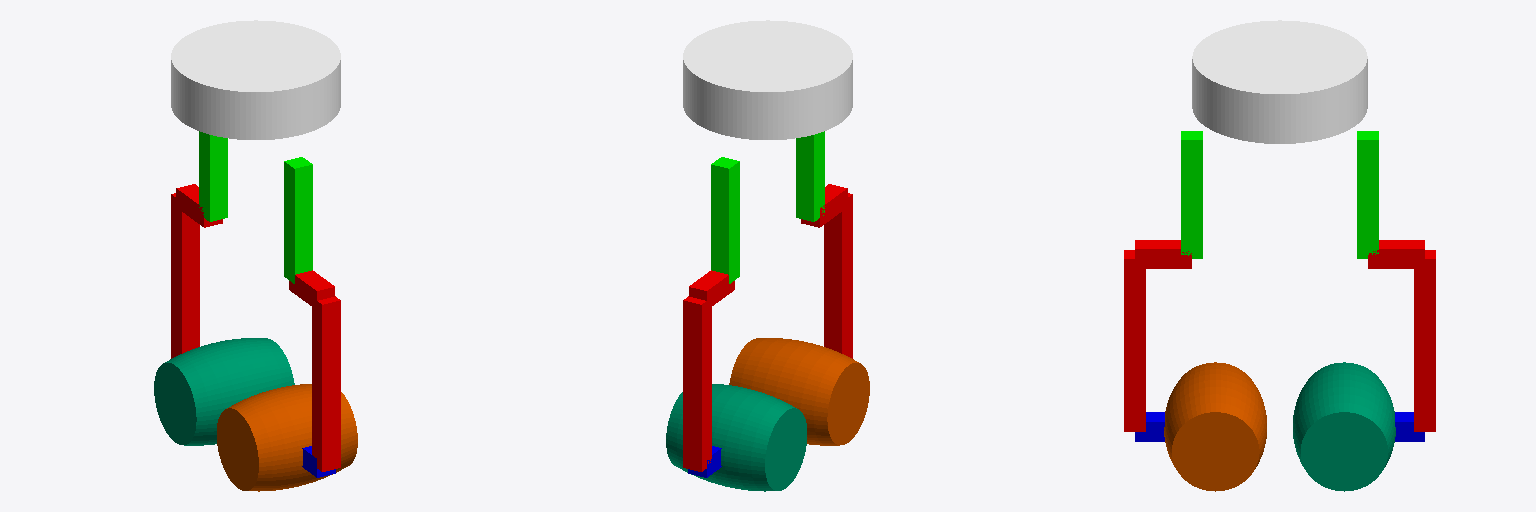
robot.urdf — roller:
<?xml version="1.0"?>
<robot name="roller">
  <link name="base">
    <inertial>
      <origin rpy="0 0 0" xyz="0 0 0" />
      <mass value="0" />
      <inertia ixx="0" ixy="0" ixz="0" iyy="0" iyz="0" izz="0" />
    </inertial>
  </link>
  <link name="roller_baselink">
    <inertial>
      <origin rpy="0 0 0" xyz="0 0 0" />
      <mass value="0" />
      <inertia ixx="0" ixy="0" ixz="0" iyy="0" iyz="0" izz="0" />
    </inertial>
    <visual>
      <origin rpy="0 0 0" xyz="0 0 0" />
      <geometry>
        <mesh filename="cylinder.obj" scale="0.08 0.08 0.05" />
        <!-- <cylinder radius="0.08" length="0.05325" /> -->
      </geometry>
      <material name="white">
        <color rgba="1 1 1 1" />
      </material>
    </visual>
    <collision>
      <origin rpy="0 0 0" xyz="0 0 0" />
      <geometry>
        <mesh filename="cylinder.obj" scale="0.08 0.08 0.05" />
        <!-- <cylinder radius="0.0375" length="0.05325" /> -->
      </geometry>
    </collision>
  </link>


  <link name="link1_left">
    <inertial>
      <origin rpy="0 0 0" xyz="0 0 0.03" />
      <mass value="0.5" />
      <inertia ixx="0.0001" ixy="0" ixz="0" iyy="0.0001" iyz="0" izz="0.0001" />
    </inertial>

    <visual>
      <origin rpy="0 0 0" xyz="0 0 0.03" />
      <geometry>
        <mesh filename="cube.obj" scale="0.01 0.01 0.06" />
        <!-- <box size="0.01 0.01 0.06" /> -->
      </geometry>
      <material name="green">
        <color rgba="0 1 0 1" />
      </material>
    </visual>
    
    <collision>
      <origin rpy="0 0 0" xyz="0 0 0.03" />
      <geometry>
        <mesh filename="cube.obj" scale="0.01 0.01 0.06" />
        <!-- <box size="0.01 0.01 0.06" /> -->
      </geometry>
    </collision>
  </link>

  <link name="link2_left">
    <inertial>
      <origin rpy="0 0 0" xyz="0 -0.0191446 0.03748" />
      <mass value="0.5" />
      <inertia ixx="0.0001" ixy="0" ixz="0" iyy="0.0001" iyz="0" izz="0.0001" />
    </inertial>

    <visual>
      <origin rpy="0 0 0" xyz="0 -0.0262 0.043525" />
      <geometry>
        <mesh filename="cube.obj" scale="0.01 0.01 0.087" />
        <!-- <box size="0.01 0.01 0.08705" /> -->
      </geometry>
      <material name="red">
        <color rgba="1 0 0 1" />
      </material>
    </visual>
    
    <visual>
      <origin rpy="0 0 0" xyz="0 -0.0131 0" />
      <geometry>
        <mesh filename="cube.obj" scale="0.01 0.0262 0.01" />
        <!-- <box size="0.01 0.0262 0.01" /> -->
      </geometry>
      <material name="red">
        <color rgba="1 0 0 1" />
      </material>
    </visual>
    
    <collision>
      <origin rpy="0 0 0" xyz="0 -0.0262 0.043525" />
      <geometry>
        <mesh filename="cube.obj" scale="0.01 0.01 0.087" />
        <!-- <box size="0.01 0.01 0.08705" /> -->
      </geometry>
    </collision>
    
    <collision>
      <origin rpy="0 0 0" xyz="0 -0.0131 0" />
      <geometry>
        <mesh filename="cube.obj" scale="0.01 0.0262 0.01" />
        <!-- <box size="0.01 0.0262 0.01" /> -->
      </geometry>
    </collision>
    
  </link>
  
  <link name="link3_left">
    <inertial>
      <origin rpy="0 0 0" xyz="0 0 0.03" />
      <mass value="0.5" />
      <inertia ixx="0.0001" ixy="0" ixz="0" iyy="0.0001" iyz="0" izz="0.0001" />
    </inertial>
    
    <visual>
      <origin rpy="0 0 0" xyz="0 0.0184 0" />
      <geometry>
        <mesh filename="cube.obj" scale="0.01 0.037 0.01" />
        <!-- <box size="0.01 0.0368 0.01" /> -->
      </geometry>
      <material name="blue">
        <color rgba="0 0 1 1" />
      </material>
    </visual>
    
    <collision>
      <origin rpy="0 0 0" xyz="0 0.0184 0" />
      <geometry>
        <mesh filename="cube.obj" scale="0.01 0.037 0.01" />
        <!-- <box size="0.01 0.0368 0.01" /> -->
      </geometry>
    </collision>
  </link>
  
  
  <link name="link4_left">
    <contact>
      <rolling_friction value="0"/>
      <spinning_friction value="0"/>
      <lateral_friction value="10"/>
    </contact>
    <inertial>
      <origin rpy="0 0 0" xyz="0 0 0.0" />
      <mass value="0.5" />
      <inertia ixx="0.0001" ixy="0" ixz="0" iyy="0.0001" iyz="0" izz="0.0001" />
    </inertial>
    
    <visual>
      <origin rpy="0 0 0" xyz="0 0 0.0" />
      <geometry>
        <mesh filename="gelsight_cad.obj" scale="1 1 1" />
        <!-- <cylinder radius="0.02" length="0.05" /> -->
      </geometry>
    </visual>
    
    <collision>
      <origin rpy="0 0 0" xyz="0 0 0.0" />
      <geometry>
        <mesh filename="gelsight_cad.obj" scale="1 1 1" />
        <!-- <cylinder radius="0.02" length="0.05" /> -->
      </geometry>
    </collision>
    
  </link>
  
  <link name="link5_left">
    <inertial>
      <origin rpy="0 0 1.57" xyz="0 0 0.00" />
      <mass value="0.05" />
      <inertia ixx="0.0001" ixy="0" ixz="0" iyy="0.0001" iyz="0" izz="0.0001" />
    </inertial>
    <visual>
      <origin rpy="0 0 0" xyz="0 0 0.0" />
      <geometry>
        <mesh filename="cylinder.obj" scale="0.018 0.018 0.05" />
        <!-- <cylinder radius="0.02" length="0.05" /> -->
      </geometry>
    </visual>
    <collision>
      <origin rpy="0 0 0" xyz="0 0 0.0" />
      <geometry>
        <mesh filename="cylinder.obj" scale="0.018 0.018 0.05" />
        <!-- <cylinder radius="0.018" length="0.05" /> -->
      </geometry>
    </collision>
  </link>
  
  
  <link name="link1_right">
    <inertial>
      <origin rpy="0 0 0" xyz="0 0 0.03" />
      <mass value="0.5" />
      <inertia ixx="0.0001" ixy="0" ixz="0" iyy="0.0001" iyz="0" izz="0.0001" />
    </inertial>
    
    <visual>
      <origin rpy="0 0 0" xyz="0 0 0.03" />
      <geometry>
        <mesh filename="cube.obj" scale="0.01 0.01 0.06" />
        <!-- <box size="0.01 0.01 0.06" /> -->
      </geometry>
      <material name="green">
        <color rgba="0 1 0 1" />
      </material>
    </visual>
    
    <collision>
      <origin rpy="0 0 0" xyz="0 0 0.03" />
      <geometry>
        <mesh filename="cube.obj" scale="0.01 0.01 0.06" />
        <!-- <box size="0.01 0.01 0.06" /> -->
      </geometry>
    </collision>
  </link>
  
  <link name="link2_right">
    <inertial>
      <origin rpy="0 0 0" xyz="0 0.0191446 0.03748" />
      <mass value="0.5" />
      <inertia ixx="0.0001" ixy="0" ixz="0" iyy="0.0001" iyz="0" izz="0.0001" />
    </inertial>

    <visual>
      <origin rpy="0 0 0" xyz="0 0.0262 0.043525" />
      <geometry>
        <mesh filename="cube.obj" scale="0.01 0.01 0.087" />
        <!-- <box size="0.01 0.01 0.08705" /> -->
      </geometry>
      <material name="red">
        <color rgba="1 0 0 1" />
      </material>
    </visual>
    
    <visual>
      <origin rpy="0 0 0" xyz="0 0.0131 0" />
      <geometry>
        <mesh filename="cube.obj" scale="0.01 0.0262 0.01" />
        <!-- <box size="0.01 0.0262 0.01" /> -->
      </geometry>
      <material name="red">
        <color rgba="1 0 0 1" />
      </material>
    </visual>
    
    <collision>
      <origin rpy="0 0 0" xyz="0 0.0262 0.043525" />
      <geometry>
        <mesh filename="cube.obj" scale="0.01 0.01 0.087" />
        <!-- <box size="0.01 0.01 0.08705" /> -->
      </geometry>
    </collision>
    
    <collision>
      <origin rpy="0 0 0" xyz="0 0.0131 0" />
      <geometry>
        <mesh filename="cube.obj" scale="0.01 0.0262 0.01" />
        <!-- <box size="0.01 0.0262 0.01" /> -->
      </geometry>
    </collision>
    
  </link>

  <link name="link3_right">
    <inertial>
      <origin rpy="0 0 0" xyz="0 0 0.03" />
      <mass value="0.5" />
      <inertia ixx="0.0001" ixy="0" ixz="0" iyy="0.0001" iyz="0" izz="0.0001" />
    </inertial>
    
    <visual>
      <origin rpy="0 0 0" xyz="0 -0.0184 0" />
      <geometry>
        <mesh filename="cube.obj" scale="0.01 0.037 0.01" />
        <!-- <box size="0.01 0.0368 0.01" /> -->
      </geometry>
      <material name="blue">
        <color rgba="0 0 1 1" />
      </material>
    </visual>
    
    <collision>
      <origin rpy="0 0 0" xyz="0 -0.0184 0" />
      <geometry>
        <mesh filename="cube.obj" scale="0.01 0.037 0.01" />
        <!-- <box size="0.01 0.0368 0.01" /> -->
      </geometry>
    </collision>
  </link>
  

  <link name="link4_right">
    <contact>
      <rolling_friction value="0"/>
      <spinning_friction value="0"/>
      <lateral_friction value="10"/>
    </contact>
    
    <inertial>
      <origin rpy="0 0 0" xyz="0 0 0.0" />
      <mass value="0.5" />
      <inertia ixx="0.0001" ixy="0" ixz="0" iyy="0.0001" iyz="0" izz="0.0001" />
    </inertial>
    
    <visual>
      <origin rpy="0 0 0" xyz="0 0 0.0" />
      <geometry>
        <mesh filename="gelsight_cad.obj" scale="1 1 1" />
        <!-- <cylinder radius="0.02" length="0.05" /> -->
      </geometry>
    </visual>
    
    <collision>
      <origin rpy="0 0 0" xyz="0 0 0.0" />
      <geometry>
        <mesh filename="gelsight_cad.obj" scale="1 1 1" />
        <!-- <cylinder radius="0.02" length="0.05" /> -->
      </geometry>
    </collision>
    
  </link>
  
  <link name="link5_right">
    <inertial>
      <origin rpy="0 0 -1.57" xyz="0 0 0.00" />
      <mass value="0.05" />
      <inertia ixx="0.0001" ixy="0" ixz="0" iyy="0.0001" iyz="0" izz="0.0001" />
    </inertial>
    <visual>
      <origin rpy="0 0 0" xyz="0 0 0.0" />
      <geometry>
        <mesh filename="cylinder.obj" scale="0.02 0.02 0.05" />
        <!-- <cylinder radius="0.02" length="0.05" /> -->
      </geometry>
    </visual>
    <collision>
      <origin rpy="0 0 0" xyz="0 0 0.0" />
      <geometry>
        <mesh filename="cylinder.obj" scale="0.018 0.018 0.05" />
        <!-- <cylinder radius="0.018" length="0.05" /> -->
      </geometry>
    </collision>
  </link>

  <joint name="wrist" type="revolute">
    <origin rpy="0 3.1415 0" xyz="0 0 0.0" />
    <parent link="base" />
    <child link="roller_baselink" />
    <axis xyz="0 0 -1" />
    <limit effort="10.0" lower="-10000" upper="10000" velocity="10000" />
    <dynamics damping="0.0" friction="0.0" />
  </joint>

  <joint name="joint1_left" type="prismatic">
    <origin xyz="0.0 -0.04 0.026625" rpy="0 0 0" />
    <parent link="roller_baselink" />
    <child link="link1_left" />
    <axis xyz="0 1 0" />
    <limit effort="10.0" lower="-0.03" upper="0.01" velocity="10000" />
    <dynamics damping="0.0" friction="0.0" />
  </joint>

  <joint name="joint2_left" type="fixed">
    <origin xyz="0.0 0.0 0.06" rpy="0 0 0" />
    <parent link="link1_left" />
    <child link="link2_left" />
    <axis xyz="1 0 0" />
    <limit effort="1.0" lower="-10000" upper="10000" velocity="10000" />
    <dynamics damping="0.0" friction="0.0" />
  </joint>

  <joint name="joint3_left" type="revolute">
    <origin xyz="0.0 -0.0262 0.08705" rpy="0 0 0" />
    <parent link="link2_left" />
    <child link="link3_left" />
    <axis xyz="0 1 0" />
    <limit effort="1.0" lower="-10000" upper="10000" velocity="10000" />
    <dynamics damping="0.0" friction="0.0" />
  </joint>

  <joint name="joint4_left" type="revolute">
    <origin xyz="0.0 0.0368 0.0" rpy="0 1.57 0" />
    <parent link="link3_left" />
    <child link="link4_left" />
    <axis xyz="0 0 1" />
    <limit effort="1.0" lower="-10000" upper="10000" velocity="10000" />
    <dynamics damping="0.0" friction="0.0" />
  </joint>

  <joint name="joint5_left" type="fixed">
    <origin xyz="0.0 0.0368 0.0" rpy="0 1.57 0" />
    <parent link="link3_left" />
    <child link="link5_left" />
    <axis xyz="0 0 1" />
    <limit effort="1.0" lower="-10000" upper="10000" velocity="10000" />
    <dynamics damping="0.0" friction="0.0" />
  </joint>


  <joint name="joint1_right" type="prismatic">
    <origin xyz="0.0 0.04 0.026625" rpy="0 0 0" />
    <parent link="roller_baselink" />
    <child link="link1_right" />
    <axis xyz="0 1 0" />
    <limit effort="10.0" lower="-0.01" upper="0.03" velocity="10000" />
    <dynamics damping="0.0" friction="0.0" />
  </joint>

  <joint name="joint2_right" type="fixed">
    <origin xyz="0.0 0.0 0.06" rpy="0 0 0" />
    <parent link="link1_right" />
    <child link="link2_right" />
    <axis xyz="1 0 0" />
    <limit effort="1.0" lower="-10000" upper="10000" velocity="10000" />
    <dynamics damping="0.0" friction="0.0" />
  </joint>

  <joint name="joint3_right" type="revolute">
    <origin xyz="0.0 0.0262 0.08705" rpy="0 0 0" />
    <parent link="link2_right" />
    <child link="link3_right" />
    <axis xyz="0 1 0" />
    <limit effort="1.0" lower="-10000" upper="10000" velocity="10000" />
    <dynamics damping="0.0" friction="0.0" />
  </joint>

  <joint name="joint4_right" type="revolute">
    <origin xyz="0.0 -0.0368 0.0" rpy="0 1.57 0" />
    <parent link="link3_right" />
    <child link="link4_right" />
    <axis xyz="0 0 1" />
    <limit effort="1.0" lower="-10000" upper="10000" velocity="10000" />
    <dynamics damping="0.0" friction="0.0" />
  </joint>

  <joint name="joint5_right" type="fixed">
    <origin xyz="0.0 -0.0368 0.0" rpy="0 1.57 0" />
    <parent link="link3_right" />
    <child link="link5_right" />
    <axis xyz="0 0 1" />
    <limit effort="1.0" lower="-10000" upper="10000" velocity="10000" />
    <dynamics damping="0.0" friction="0.0" />
  </joint>

</robot>

--- Render facts (derived) ---
Views: 3 orthographic renders of the robot side by side, from view 1: azimuth 30°, elevation 25°; view 2: azimuth 150°, elevation 25°; view 3: azimuth 270°, elevation 25°.
Model roller with 12 links and 11 joints (5 revolute, 2 prismatic, 4 fixed), rooted at base, posed every joint at zero.
Visible links, largest first — view 1: roller_baselink, link4_right, link4_left, link2_left, link2_right, link1_left, link1_right; view 2: roller_baselink, link4_left, link4_right, link2_right, link2_left, link1_right, link1_left; view 3: roller_baselink, link4_left, link4_right, link2_right, link2_left, link1_left, link1_right, link3_left, link3_right.
Boxes of the visible links, x1,y1,x2,y2 form: roller_baselink: (171,20,340,139); link4_right: (154,338,294,445); link4_left: (217,384,357,491); link2_left: (289,270,340,471); link2_right: (171,184,222,358); link1_left: (284,157,312,283); link1_right: (199,131,227,221); roller_baselink: (683,20,852,139); link4_left: (729,338,869,445); link4_right: (666,384,806,491); link2_right: (683,270,734,471); link2_left: (801,184,852,358); link1_right: (711,157,739,283); link1_left: (796,131,824,221); roller_baselink: (1192,20,1367,143); link4_left: (1164,362,1266,491); link4_right: (1293,362,1395,491); link2_right: (1368,240,1435,431); link2_left: (1124,240,1191,431); link1_left: (1181,131,1202,258); link1_right: (1357,131,1378,258); link3_left: (1135,412,1164,441); link3_right: (1395,412,1424,441).
Size in the robot's own frame: 0.08 by 0.1424 by 0.2099 metres.
13 mesh visuals loaded from 3 distinct referenced files (3 OBJ).